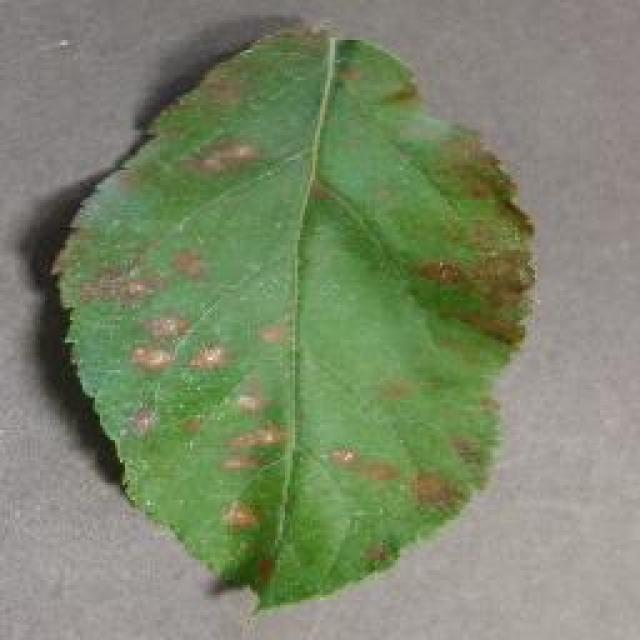apple rust disease: (48, 22, 540, 610)
